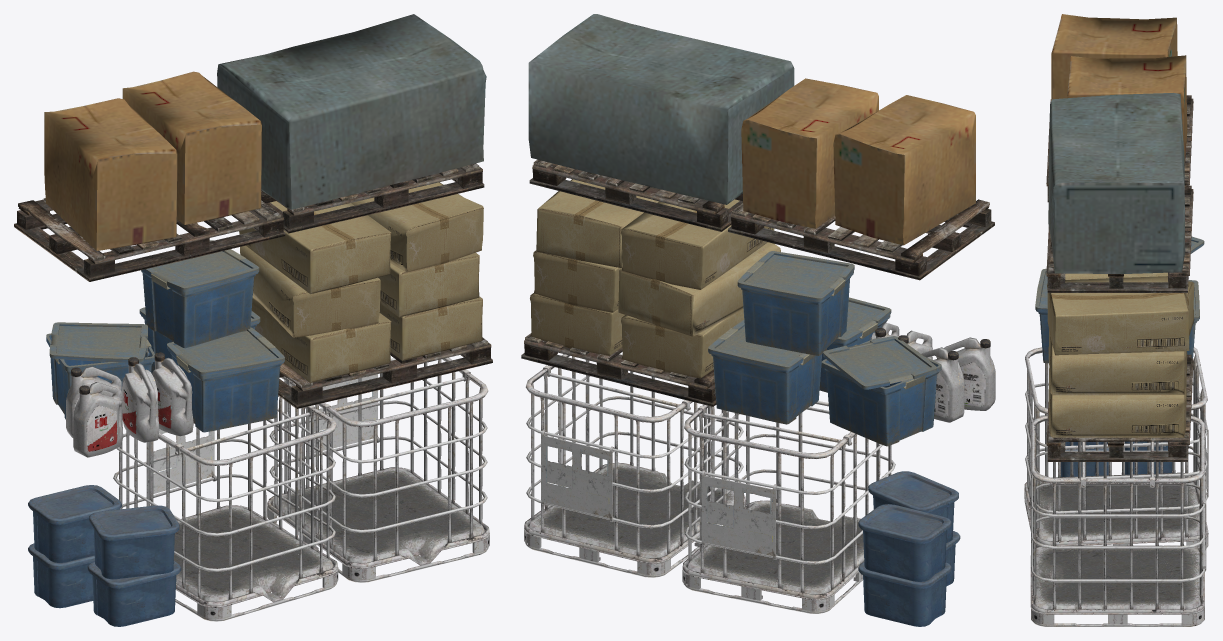
File: sm39_156_ironshelfset08a.fbx
3 views of the same model, side by side, from view 1: azimuth 30°, elevation 25°; view 2: azimuth 150°, elevation 25°; view 3: azimuth 270°, elevation 25° (orthographic). The views are drawn at different scales.
Visible parts, largest first — view 1: LOD_1_Group_0_Sub_5__sm36_058_Cardboard07A_A_Mat, LOD_1_Group_0_Sub_3__sm36_004_Cardboard03A_A_Mat, LOD_1_Group_0_Sub_4__sm36_057_Cardboard06A_A_Mat, LOD_1_Group_0_Sub_1__sm23_001_WaterTank01A_B_Mat, LOD_1_Group_1_Sub_1__sm23_001_WaterTank01A_B_Mat, LOD_1_Group_0_Sub_7__sm30_074_PlasticBox01A_A_Mat, LOD_1_Group_0_Sub_2__sm26_003_Palette01A_A_Mat, LOD_1_Group_0_Sub_6__sm30_073_PlasticBox01A_A_Mat, LOD_1_Group_3_Sub_1__sm36_060_EngineOil01A_A_Mat, LOD_1_Group_0_Sub_8__sm36_060_EngineOil01A_A_Mat, LOD_1_Group_4_Sub_1__sm36_060_EngineOil01A_A_Mat, LOD_1_Group_2_Sub_1__sm36_060_EngineOil01A_A_Mat; view 2: LOD_1_Group_0_Sub_5__sm36_058_Cardboard07A_A_Mat, LOD_1_Group_0_Sub_3__sm36_004_Cardboard03A_A_Mat, LOD_1_Group_0_Sub_4__sm36_057_Cardboard06A_A_Mat, LOD_1_Group_0_Sub_7__sm30_074_PlasticBox01A_A_Mat, LOD_1_Group_1_Sub_1__sm23_001_WaterTank01A_B_Mat, LOD_1_Group_0_Sub_1__sm23_001_WaterTank01A_B_Mat, LOD_1_Group_0_Sub_2__sm26_003_Palette01A_A_Mat, LOD_1_Group_0_Sub_6__sm30_073_PlasticBox01A_A_Mat, LOD_1_Group_3_Sub_1__sm36_060_EngineOil01A_A_Mat, LOD_1_Group_2_Sub_1__sm36_060_EngineOil01A_A_Mat; view 3: LOD_1_Group_0_Sub_5__sm36_058_Cardboard07A_A_Mat, LOD_1_Group_0_Sub_3__sm36_004_Cardboard03A_A_Mat, LOD_1_Group_0_Sub_1__sm23_001_WaterTank01A_B_Mat, LOD_1_Group_1_Sub_1__sm23_001_WaterTank01A_B_Mat, LOD_1_Group_0_Sub_4__sm36_057_Cardboard06A_A_Mat, LOD_1_Group_0_Sub_2__sm26_003_Palette01A_A_Mat, LOD_1_Group_0_Sub_7__sm30_074_PlasticBox01A_A_Mat, LOD_1_Group_0_Sub_6__sm30_073_PlasticBox01A_A_Mat.
Part boxes in pixels (x1,y1,x2,y2): LOD_1_Group_0_Sub_5__sm36_058_Cardboard07A_A_Mat: (217,14,486,209); LOD_1_Group_0_Sub_3__sm36_004_Cardboard03A_A_Mat: (239,182,483,382); LOD_1_Group_0_Sub_4__sm36_057_Cardboard06A_A_Mat: (44,71,261,250); LOD_1_Group_0_Sub_1__sm23_001_WaterTank01A_B_Mat: (267,357,489,582); LOD_1_Group_1_Sub_1__sm23_001_WaterTank01A_B_Mat: (113,397,338,621); LOD_1_Group_0_Sub_7__sm30_074_PlasticBox01A_A_Mat: (46,240,284,432); LOD_1_Group_0_Sub_2__sm26_003_Palette01A_A_Mat: (14,163,492,408); LOD_1_Group_0_Sub_6__sm30_073_PlasticBox01A_A_Mat: (28,485,181,626); LOD_1_Group_3_Sub_1__sm36_060_EngineOil01A_A_Mat: (73,382,123,457); LOD_1_Group_0_Sub_8__sm36_060_EngineOil01A_A_Mat: (121,357,159,442); LOD_1_Group_4_Sub_1__sm36_060_EngineOil01A_A_Mat: (152,352,193,436); LOD_1_Group_2_Sub_1__sm36_060_EngineOil01A_A_Mat: (66,366,121,437); LOD_1_Group_0_Sub_5__sm36_058_Cardboard07A_A_Mat: (528,14,794,204); LOD_1_Group_0_Sub_3__sm36_004_Cardboard03A_A_Mat: (530,179,780,378); LOD_1_Group_0_Sub_4__sm36_057_Cardboard06A_A_Mat: (741,78,975,245); LOD_1_Group_0_Sub_7__sm30_074_PlasticBox01A_A_Mat: (708,251,941,446); LOD_1_Group_1_Sub_1__sm23_001_WaterTank01A_B_Mat: (682,401,895,613); LOD_1_Group_0_Sub_1__sm23_001_WaterTank01A_B_Mat: (524,354,745,577); LOD_1_Group_0_Sub_2__sm26_003_Palette01A_A_Mat: (521,159,994,406); LOD_1_Group_0_Sub_6__sm30_073_PlasticBox01A_A_Mat: (858,471,960,626); LOD_1_Group_3_Sub_1__sm36_060_EngineOil01A_A_Mat: (944,337,995,410); LOD_1_Group_2_Sub_1__sm36_060_EngineOil01A_A_Mat: (921,347,964,422); LOD_1_Group_0_Sub_5__sm36_058_Cardboard07A_A_Mat: (1048,93,1185,274); LOD_1_Group_0_Sub_3__sm36_004_Cardboard03A_A_Mat: (1047,272,1194,437); LOD_1_Group_0_Sub_1__sm23_001_WaterTank01A_B_Mat: (1030,415,1206,626); LOD_1_Group_1_Sub_1__sm23_001_WaterTank01A_B_Mat: (1024,347,1208,549); LOD_1_Group_0_Sub_4__sm36_057_Cardboard06A_A_Mat: (1051,14,1187,165); LOD_1_Group_0_Sub_2__sm26_003_Palette01A_A_Mat: (1046,95,1193,461); LOD_1_Group_0_Sub_7__sm30_074_PlasticBox01A_A_Mat: (1035,236,1204,363); LOD_1_Group_0_Sub_6__sm30_073_PlasticBox01A_A_Mat: (1061,441,1172,476).
Bounding box in the file's own units: 2.42 × 2.72 × 1.02.
